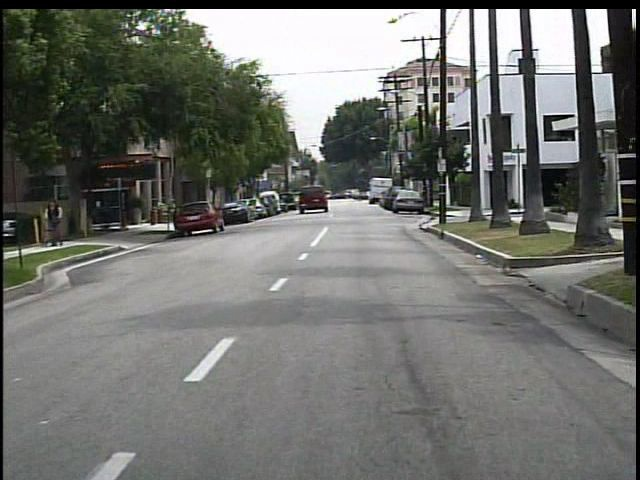person: (47, 196, 72, 248)
